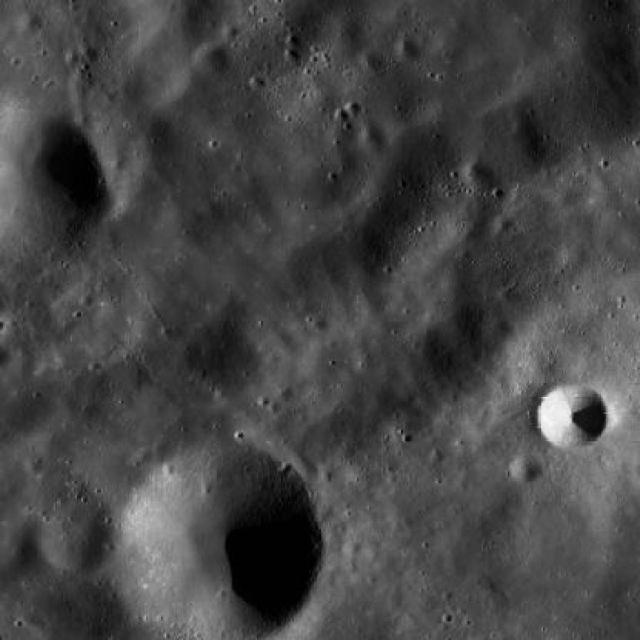crater: (0, 106, 108, 262), (38, 498, 118, 574), (124, 0, 225, 54), (538, 382, 606, 448), (162, 68, 218, 124), (108, 170, 158, 219), (440, 200, 489, 248), (130, 129, 178, 177), (155, 200, 203, 246), (296, 338, 338, 380), (516, 343, 558, 385), (0, 532, 40, 574), (194, 41, 228, 74), (352, 284, 386, 316), (462, 160, 496, 192), (330, 16, 362, 47), (358, 124, 390, 154), (512, 454, 542, 483), (266, 327, 294, 355), (16, 10, 42, 35), (362, 48, 386, 74), (396, 37, 422, 60), (486, 318, 511, 340), (68, 76, 92, 98), (588, 172, 610, 194), (20, 452, 42, 472), (308, 312, 328, 332), (494, 214, 512, 231), (160, 323, 178, 340), (0, 1, 1, 2)
